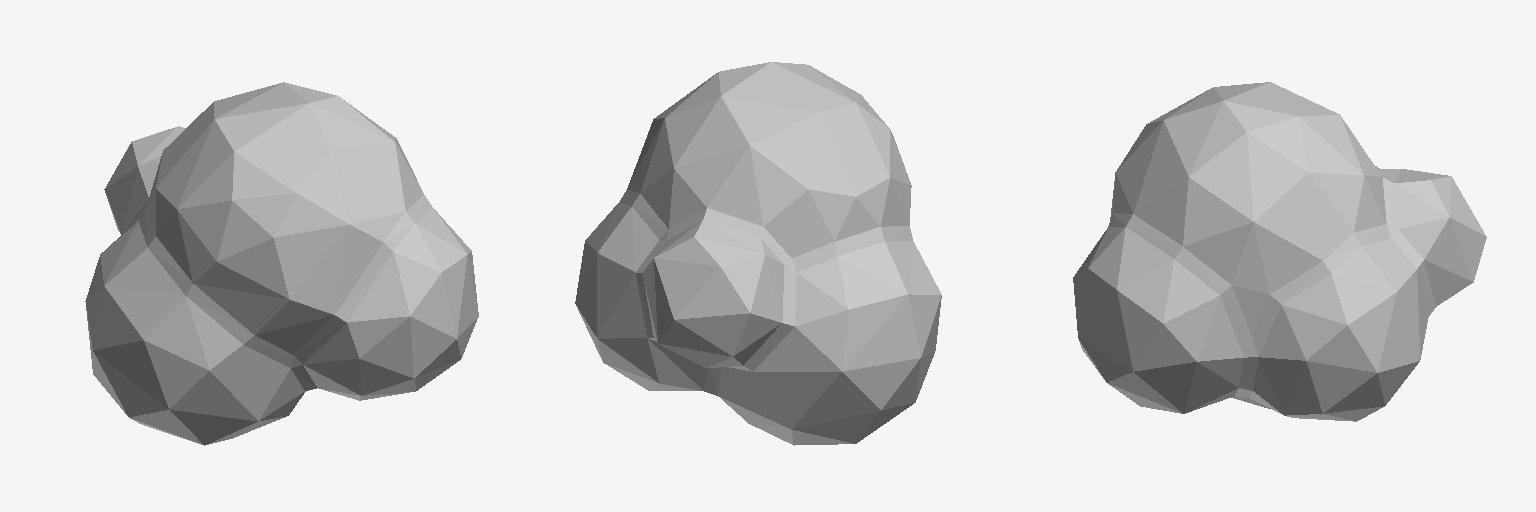
Rendered from smokeCloud.obj.
3 views of the same model, side by side, from view 1: azimuth 30°, elevation 25°; view 2: azimuth 150°, elevation 25°; view 3: azimuth 270°, elevation 25° (orthographic).
Parts seen in each view (by area): view 1: Icosphere.001_Icosphere.002; view 2: Icosphere.001_Icosphere.002; view 3: Icosphere.001_Icosphere.002.
Boxes of the visible parts, x1=… form: Icosphere.001_Icosphere.002: x1=85, y1=82, x2=478, y2=445; Icosphere.001_Icosphere.002: x1=575, y1=62, x2=941, y2=445; Icosphere.001_Icosphere.002: x1=1073, y1=82, x2=1486, y2=421.
Bounding box in the file's own units: 0.5854 × 0.5921 × 0.6635.